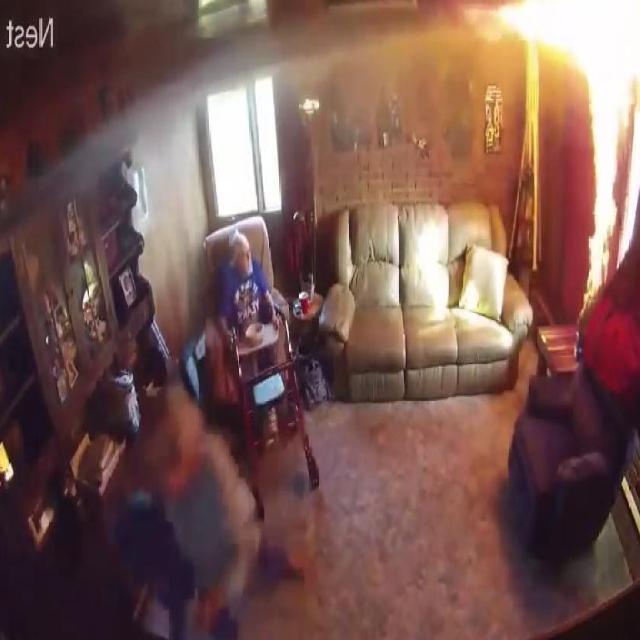fire: (279, 6, 458, 137)
smoke: (582, 0, 628, 298), (493, 0, 640, 84)
